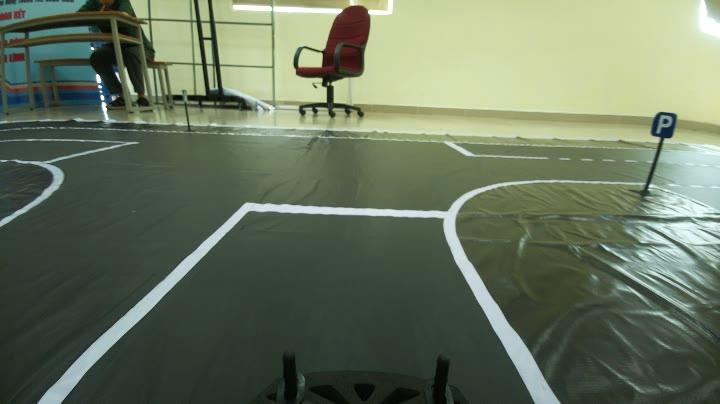parking: (648, 108, 678, 140)
